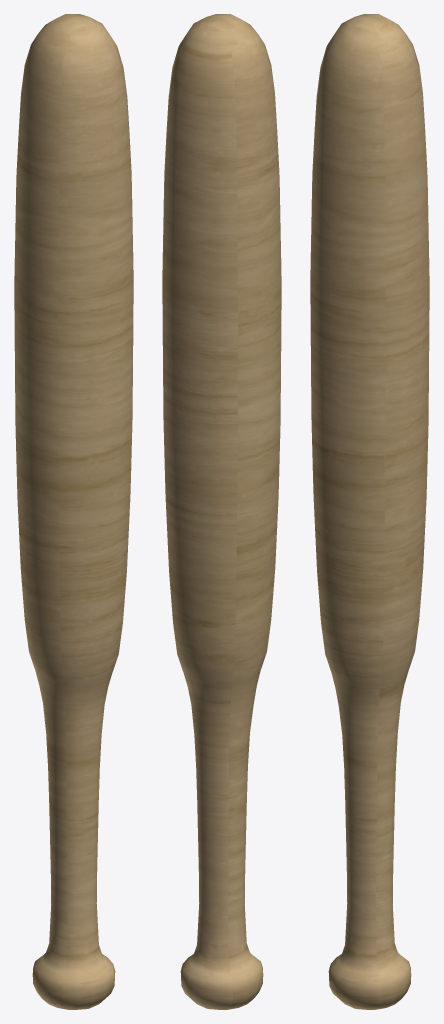
Rendered from bat.fbx.
The picture shows the model from 3 angles, left to right: view 1: azimuth 30°, elevation 25°; view 2: azimuth 150°, elevation 25°; view 3: azimuth 330°, elevation 25°; orthographic projection.
Visible parts, largest first — view 1: pCube1; view 2: pCube1; view 3: pCube1.
Boxes of the visible parts, <box> form: pCube1: <box>14,14,133,1009</box>; pCube1: <box>162,14,281,1009</box>; pCube1: <box>310,14,429,1009</box>.
Bounding box in the file's own units: 6.47 × 6.47 × 59.51.
1 material, 1 textured.
